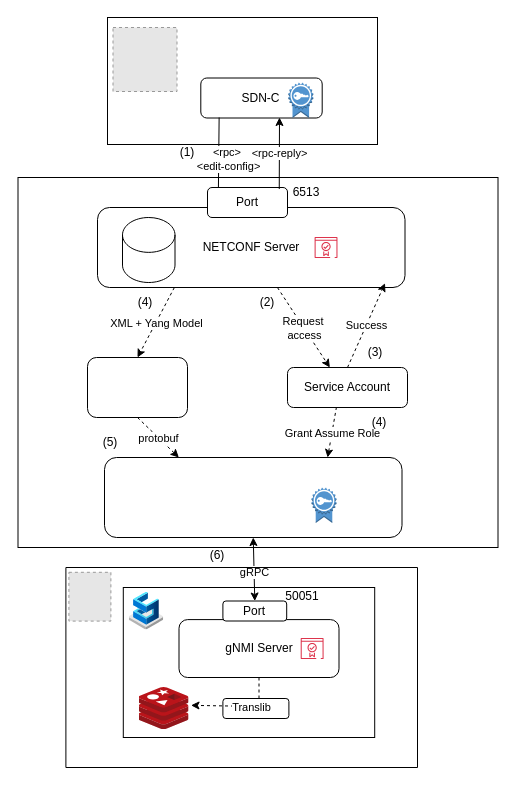
Some shapes in this 515 by 785 pixel diagram are drawn without their labels. Grey dashed boxes stand in for pictures. The box of each missing label's shape, as (x1, y1, x2, y2) in pixels:
Adapter Core: (86, 356, 188, 418)
gNMI Client: (104, 456, 402, 538)
Yang: (122, 216, 175, 282)
